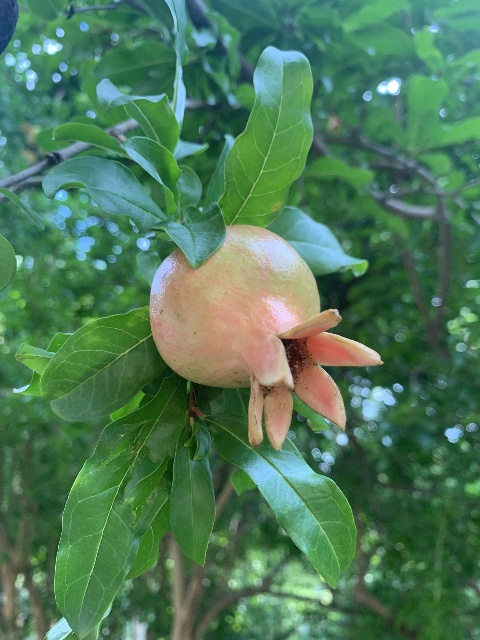early-fruit: (149, 223, 383, 451)
